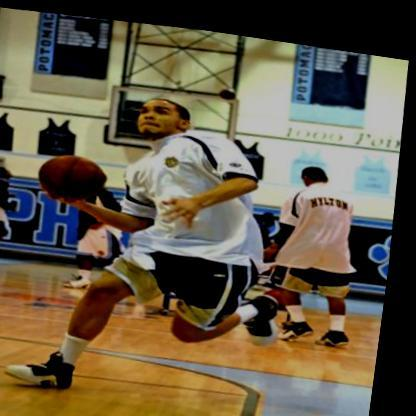basketball: (40, 144, 111, 202)
